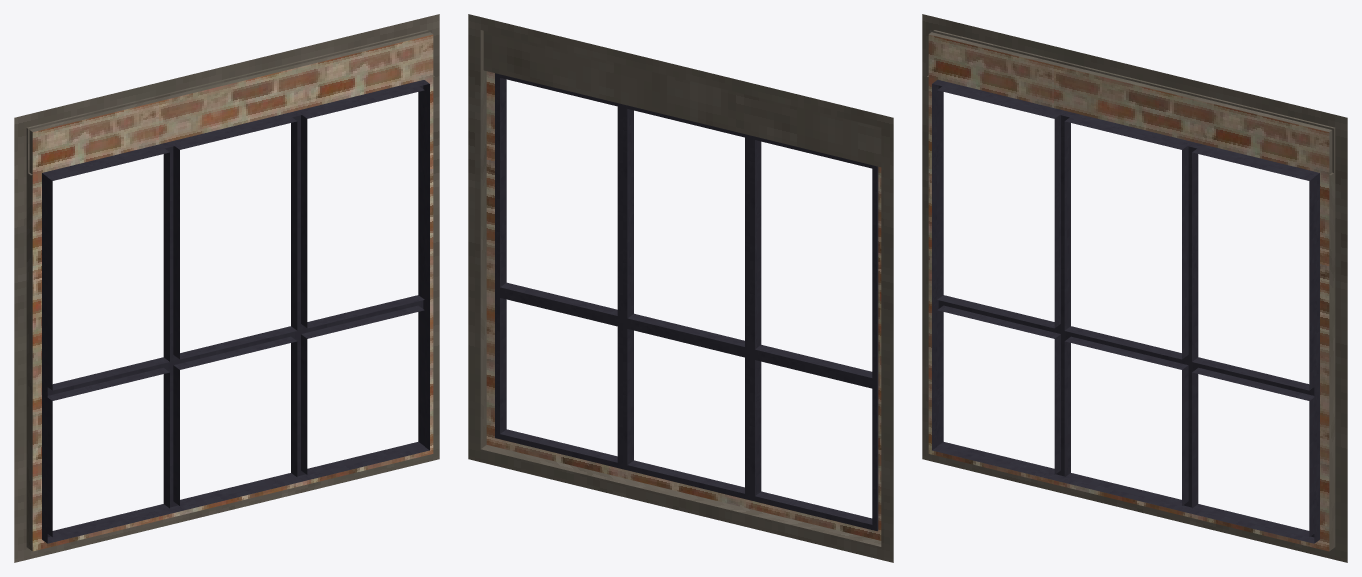
The model's file is Factory_Wall_Window_4x4m.glb.
3 renders of one model, left to right at view 1: azimuth 30°, elevation 25°; view 2: azimuth 150°, elevation 25°; view 3: azimuth 330°, elevation 25°, orthographic.
Parts seen in each view (by area): view 1: Factory_Wall_Window_4x4; view 2: Factory_Wall_Window_4x4; view 3: Factory_Wall_Window_4x4.
Part boxes in pixels (bbox=[...]): Factory_Wall_Window_4x4: bbox=[14, 14, 439, 562]; Factory_Wall_Window_4x4: bbox=[468, 14, 893, 562]; Factory_Wall_Window_4x4: bbox=[922, 14, 1347, 562].
Bounding box in the file's own units: 4 × 4 × 0.1916.
3 materials, 3 textured.
